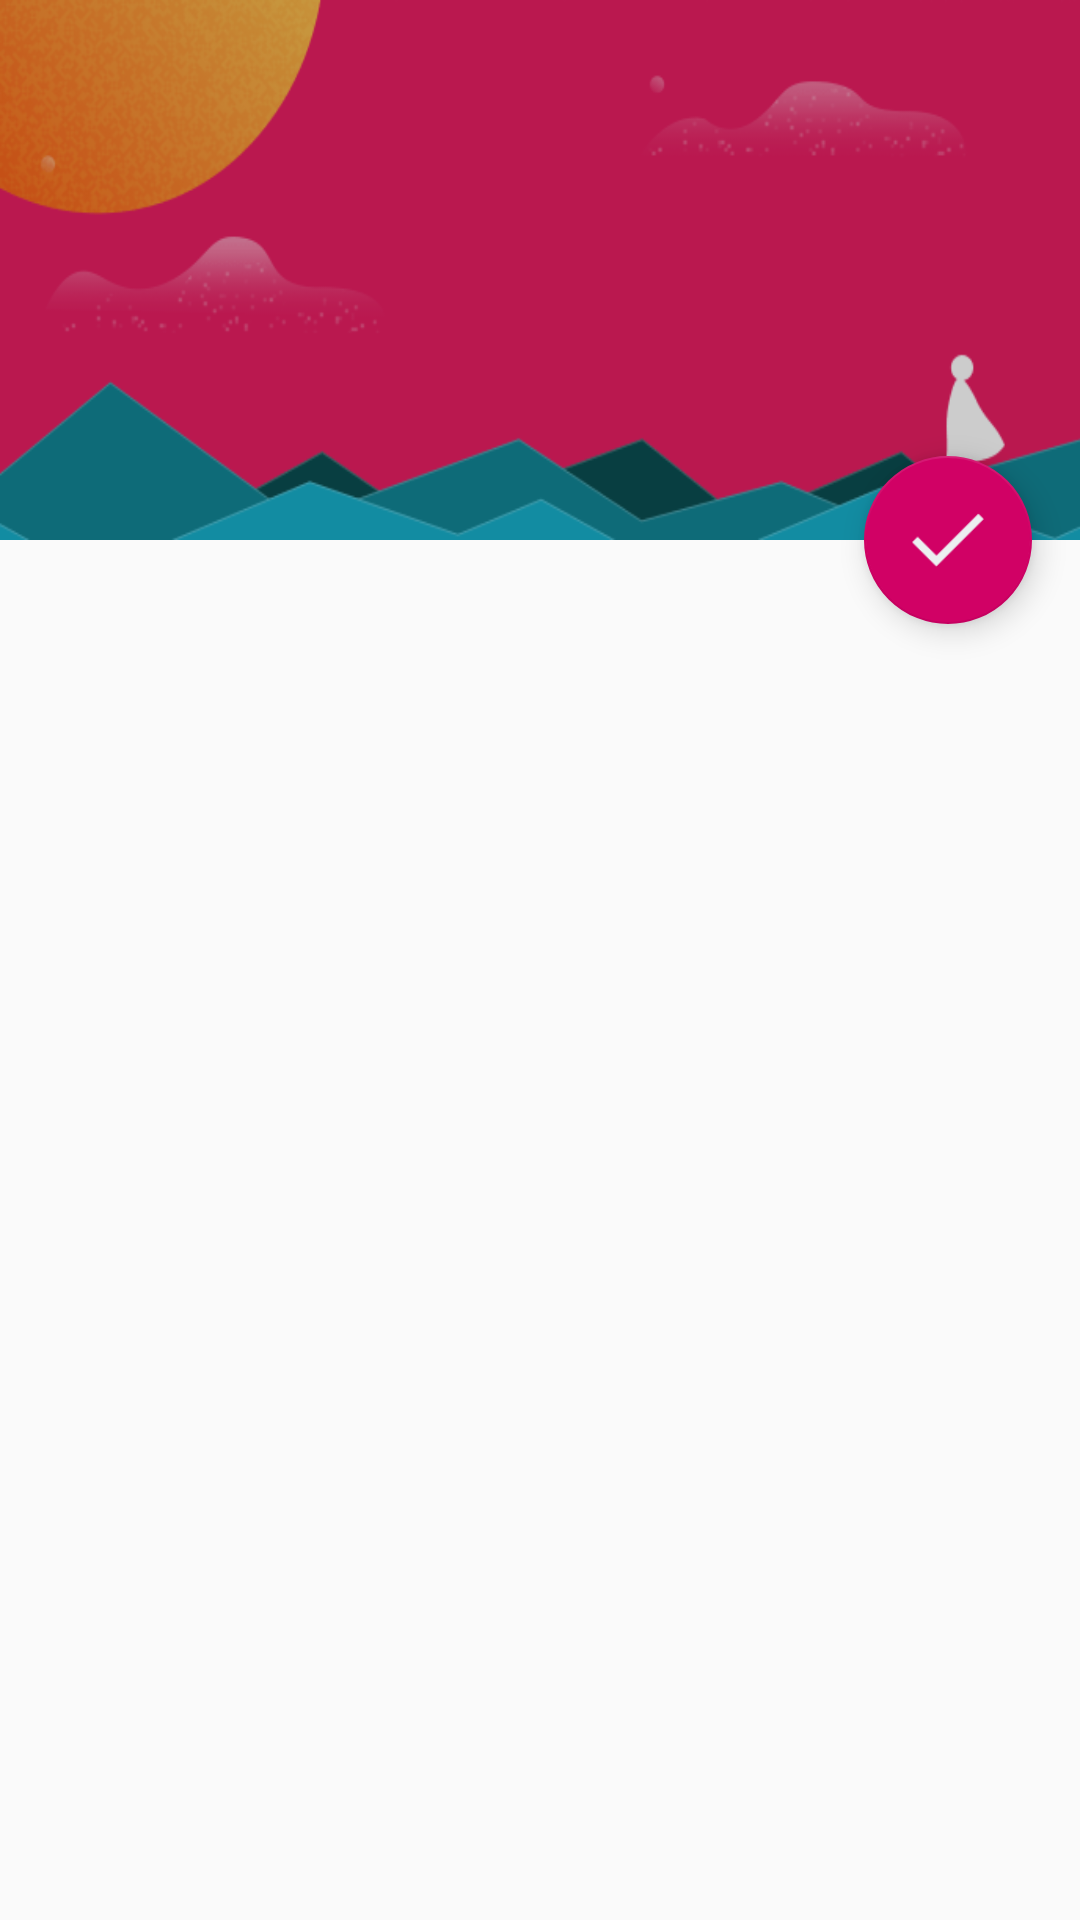

Screen size 1080x1920. Icon name, then its center in pixels as point (x, y):
choose: point (948, 540)
